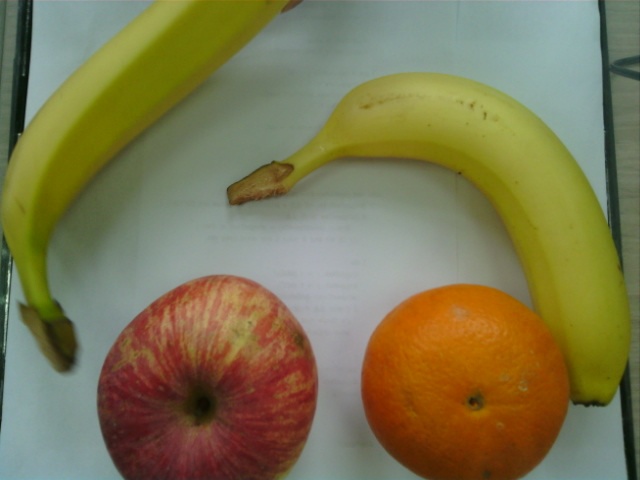normal_apple: (98, 274, 320, 480)
normal_banana: (262, 70, 635, 406), (7, 1, 304, 314)
normal_orange: (361, 282, 572, 480)
